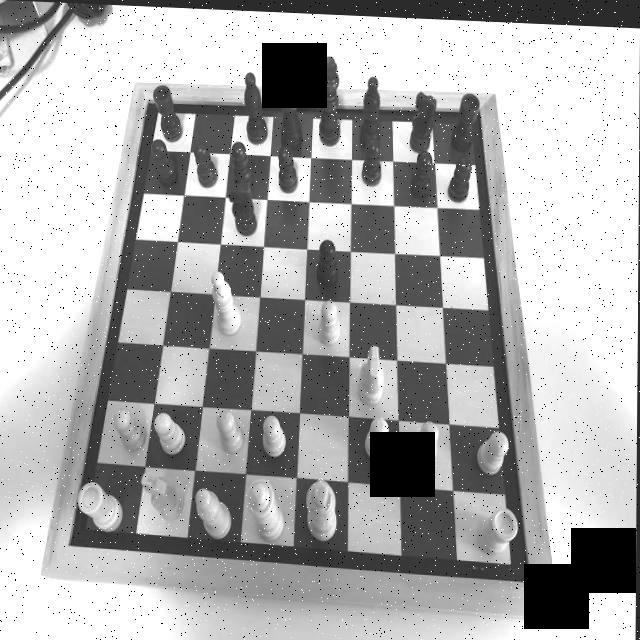chess-table-corners: (520, 559, 542, 592), (59, 528, 83, 553), (139, 88, 157, 110), (472, 95, 488, 118)
